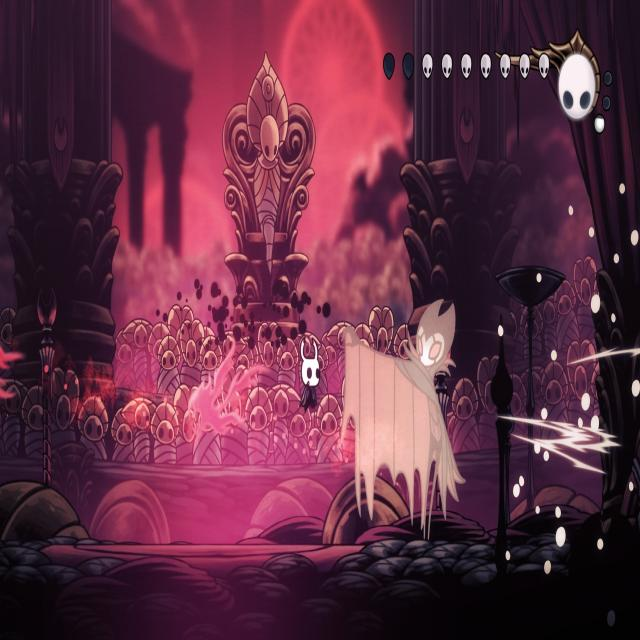Fire Bat: (188, 340, 262, 436)
Open Cloak: (339, 298, 466, 548)
Player: (297, 332, 324, 418)
